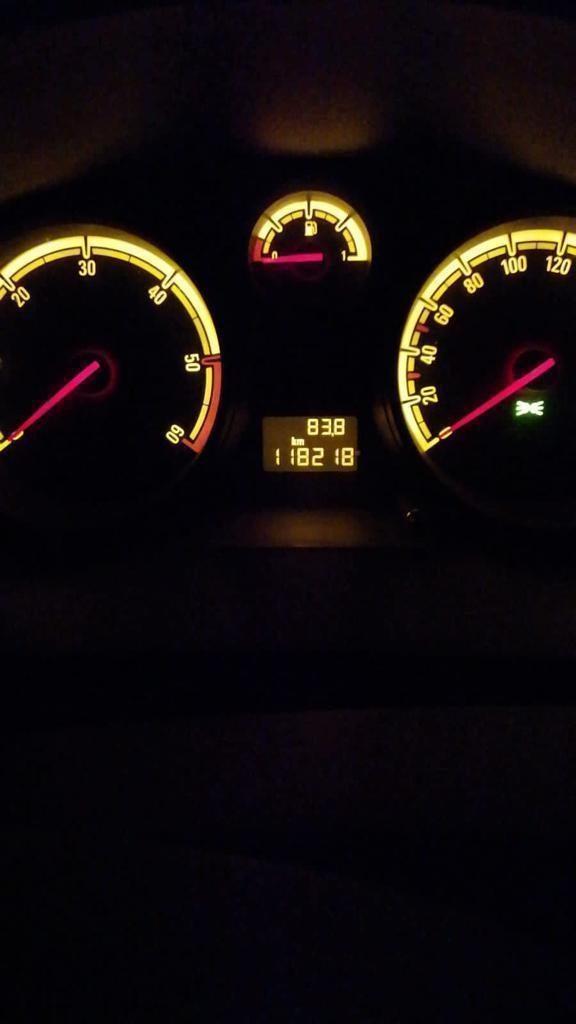,: (330, 432, 334, 436)
1: (273, 446, 281, 465), (288, 447, 295, 466), (333, 446, 339, 466)
2: (310, 446, 325, 467)
3: (320, 417, 331, 436)
8: (295, 447, 310, 467), (340, 446, 354, 466), (305, 416, 319, 435), (333, 417, 346, 436)
X: (289, 435, 296, 446), (296, 438, 305, 445)
odometer: (257, 412, 362, 476)
